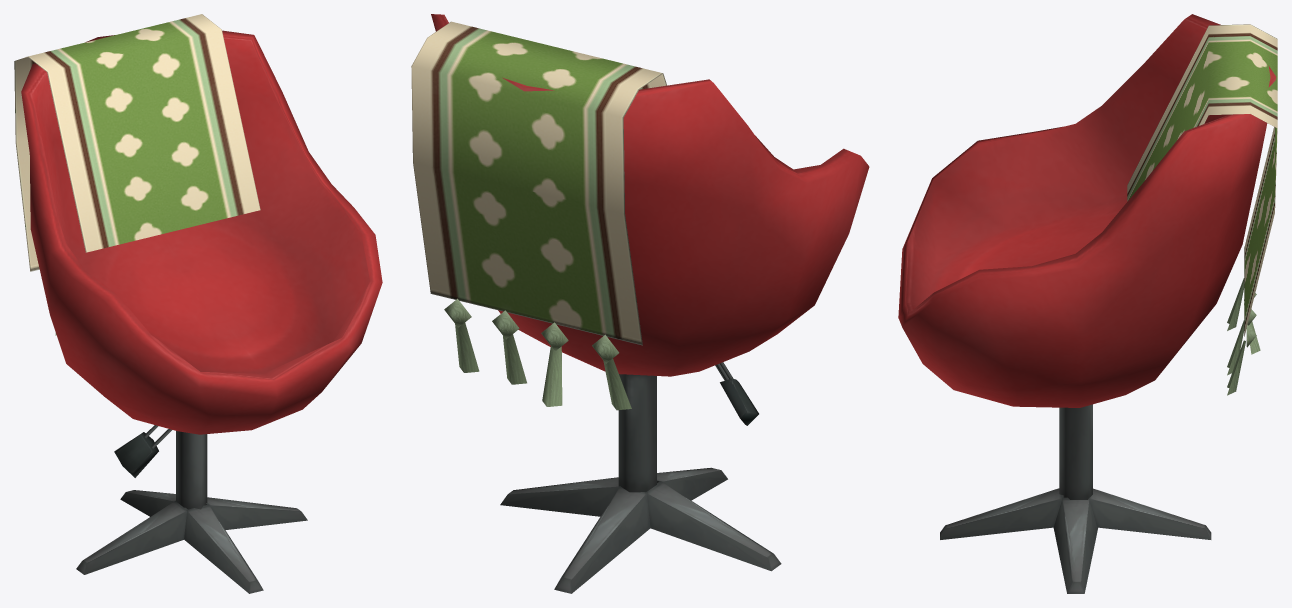
The model's file is wz_yizi.FBX.
3 renders of one model, left to right at view 1: azimuth 30°, elevation 25°; view 2: azimuth 150°, elevation 25°; view 3: azimuth 270°, elevation 25°, orthographic. The views are drawn at different scales.
Visible parts, largest first — view 1: wz_yizi, wz_ditan_01; view 2: wz_yizi, wz_ditan_01; view 3: wz_yizi, wz_ditan_01.
Boxes of the visible parts, x1=… form: wz_yizi: x1=21, y1=30, x2=382, y2=593; wz_ditan_01: x1=14, y1=14, x2=260, y2=335; wz_yizi: x1=431, y1=14, x2=869, y2=593; wz_ditan_01: x1=411, y1=21, x2=666, y2=410; wz_yizi: x1=898, y1=14, x2=1276, y2=593; wz_ditan_01: x1=1127, y1=24, x2=1277, y2=395.
Size of the model in its own units: 1.53 by 2.3 by 1.68.
